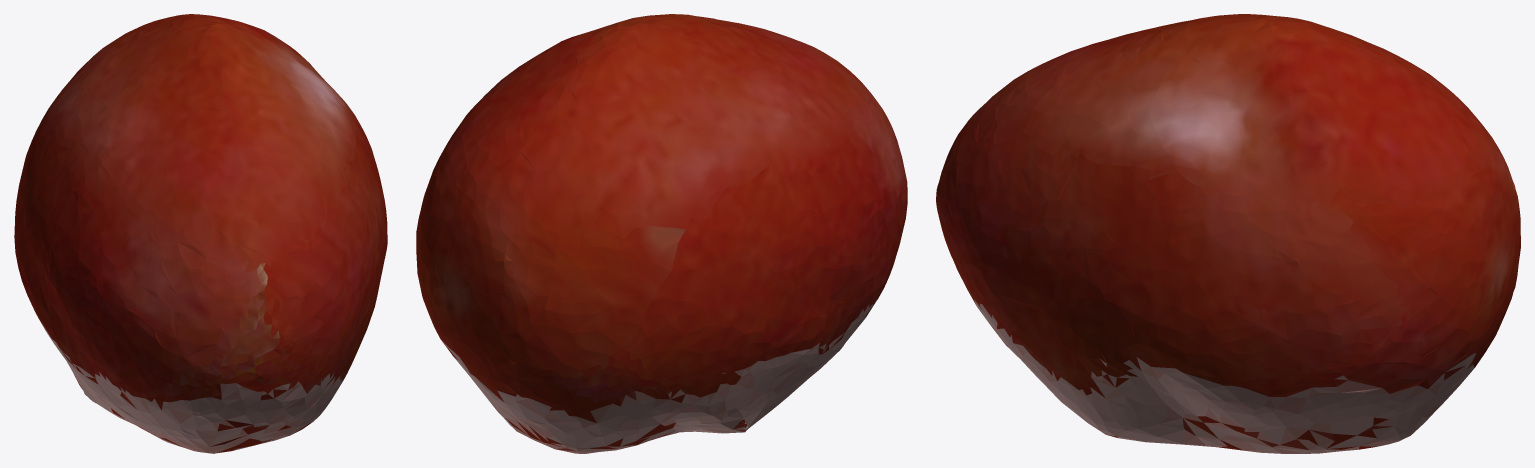
File: model_Tomato 4_20201015_123100779.obj
3 renders of one model, left to right at view 1: azimuth 30°, elevation 25°; view 2: azimuth 150°, elevation 25°; view 3: azimuth 270°, elevation 25°, orthographic. The views are drawn at different scales.
Size of the model in its own units: 20.79 by 21.81 by 28.03.
1 material, 1 textured.
